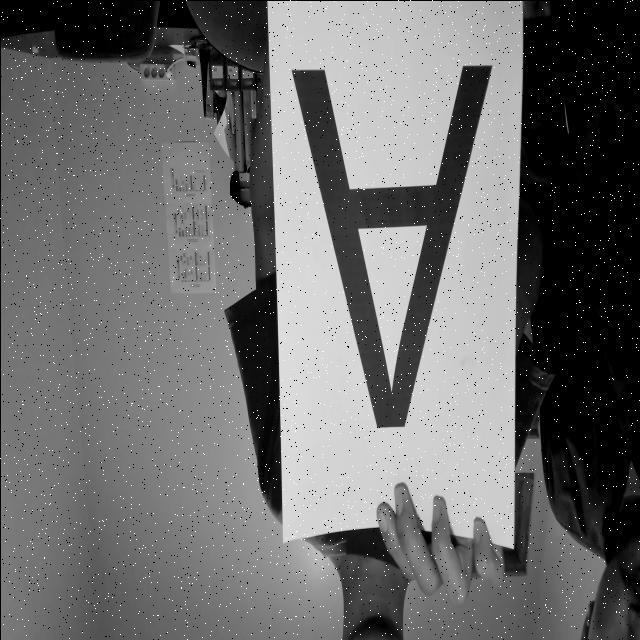a: (271, 26, 501, 454)
